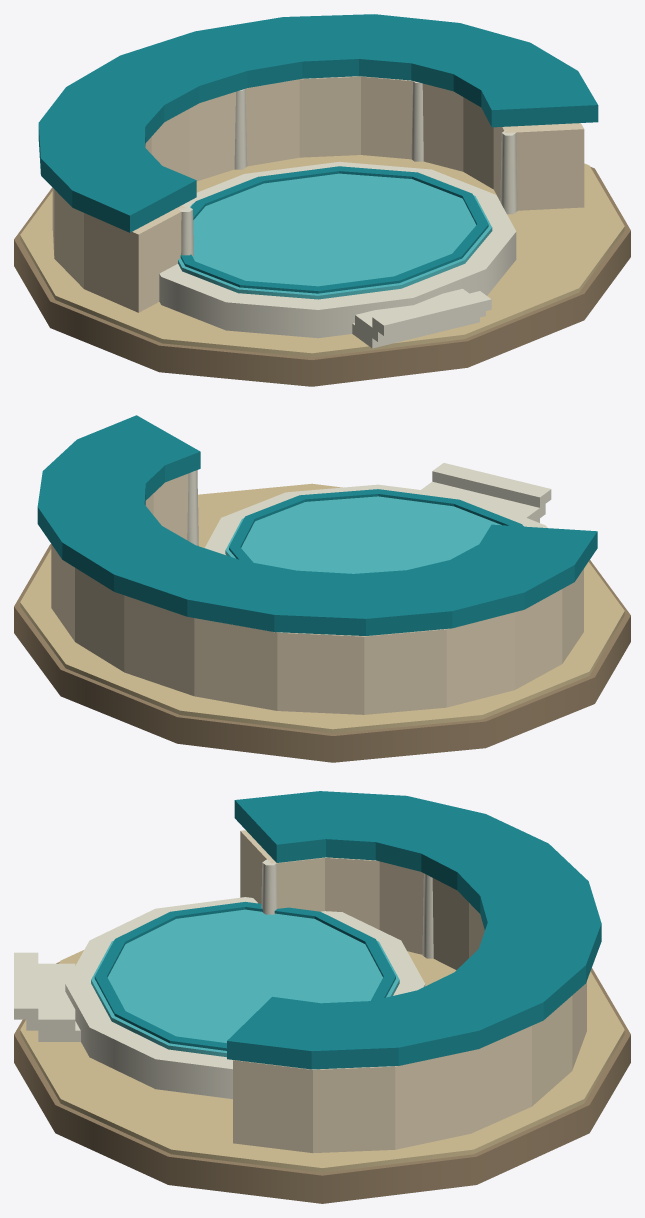
Rendered from recovery-center-lv1.glb.
3 views of the same model, one above another, from view 1: azimuth 30°, elevation 25°; view 2: azimuth 150°, elevation 25°; view 3: azimuth 270°, elevation 25° (orthographic). The views are drawn at different scales.
Visible parts, largest first — view 1: crescent_roof_aqua, crescent_bathhouse_cream, water_pool, foundation_sand, foundation_stoneDark, pool_terrace_white, pool_mosaic_aqua, pool_steps_white, body_white; view 2: crescent_roof_aqua, crescent_bathhouse_cream, foundation_stoneDark, foundation_sand, water_pool, pool_steps_white, pool_mosaic_aqua, pool_terrace_white, body_white; view 3: crescent_roof_aqua, crescent_bathhouse_cream, water_pool, foundation_sand, foundation_stoneDark, pool_terrace_white, pool_mosaic_aqua, pool_steps_white, body_white.
Part boxes in pixels (left/top/right/bottom): crescent_roof_aqua: left=38, top=14, right=598, bottom=232; crescent_bathhouse_cream: left=52, top=76, right=584, bottom=312; water_pool: left=178, top=173, right=492, bottom=299; foundation_sand: left=20, top=155, right=624, bottom=357; foundation_stoneDark: left=14, top=166, right=630, bottom=386; pool_terrace_white: left=159, top=161, right=516, bottom=338; pool_mosaic_aqua: left=180, top=166, right=488, bottom=293; pool_steps_white: left=352, top=288, right=491, bottom=348; body_white: left=179, top=81, right=517, bottom=256; crescent_roof_aqua: left=37, top=415, right=597, bottom=635; crescent_bathhouse_cream: left=51, top=474, right=583, bottom=714; foundation_stoneDark: left=14, top=544, right=630, bottom=762; foundation_sand: left=20, top=483, right=624, bottom=733; water_pool: left=225, top=496, right=524, bottom=573; pool_steps_white: left=421, top=463, right=551, bottom=522; pool_mosaic_aqua: left=229, top=489, right=523, bottom=562; pool_terrace_white: left=205, top=484, right=547, bottom=554; body_white: left=187, top=470, right=198, bottom=546; crescent_roof_aqua: left=227, top=791, right=601, bottom=1069; crescent_bathhouse_cream: left=233, top=830, right=586, bottom=1153; water_pool: left=91, top=909, right=399, bottom=1057; foundation_sand: left=20, top=950, right=624, bottom=1172; foundation_stoneDark: left=14, top=962, right=630, bottom=1203; pool_terrace_white: left=65, top=897, right=425, bottom=1098; pool_mosaic_aqua: left=94, top=901, right=395, bottom=1050; pool_steps_white: left=14, top=952, right=80, bottom=1041; body_white: left=261, top=859, right=433, bottom=958.
Bounding box in the file's own units: 1 × 0.2335 × 0.9231.
